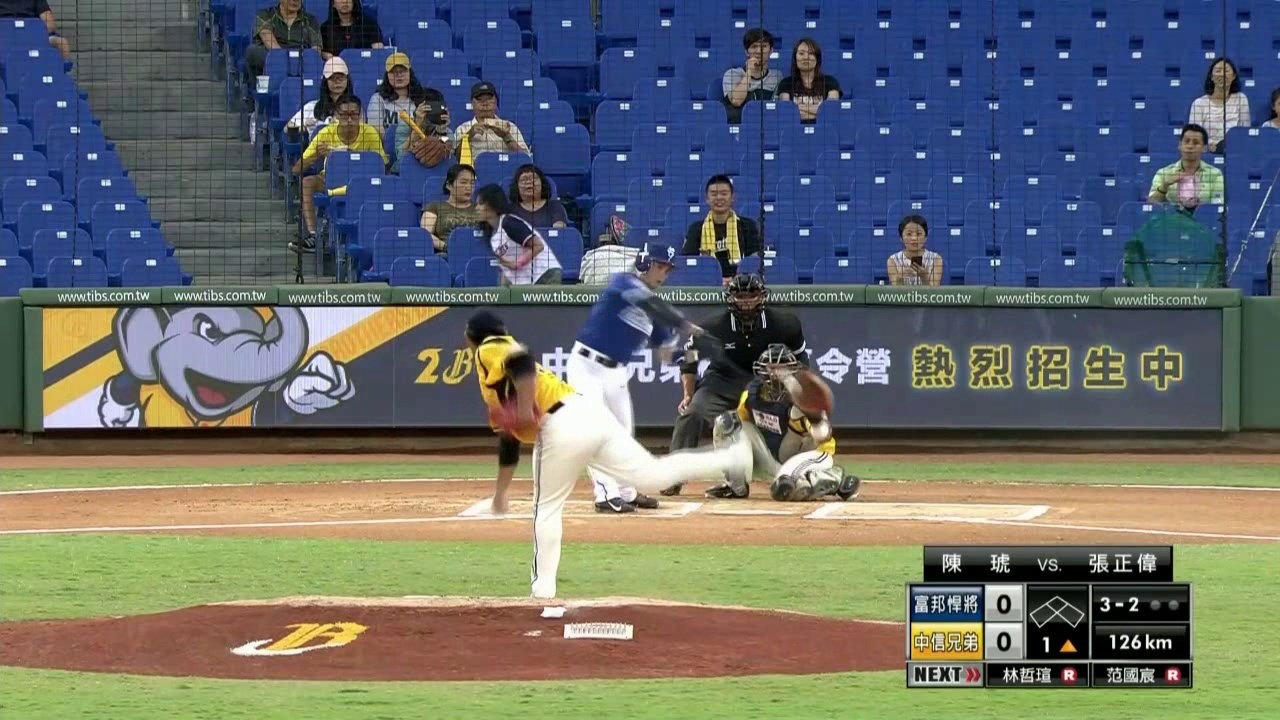ball: (787, 379, 798, 391)
base: (1029, 590, 1085, 632)
bat: (684, 349, 698, 364)
out: (1144, 592, 1182, 614)
score1: (986, 590, 1024, 619)
score2: (985, 628, 1022, 658)
session: (1032, 633, 1088, 658)
speed: (1096, 627, 1181, 656)
strikeball: (1092, 586, 1144, 619)
